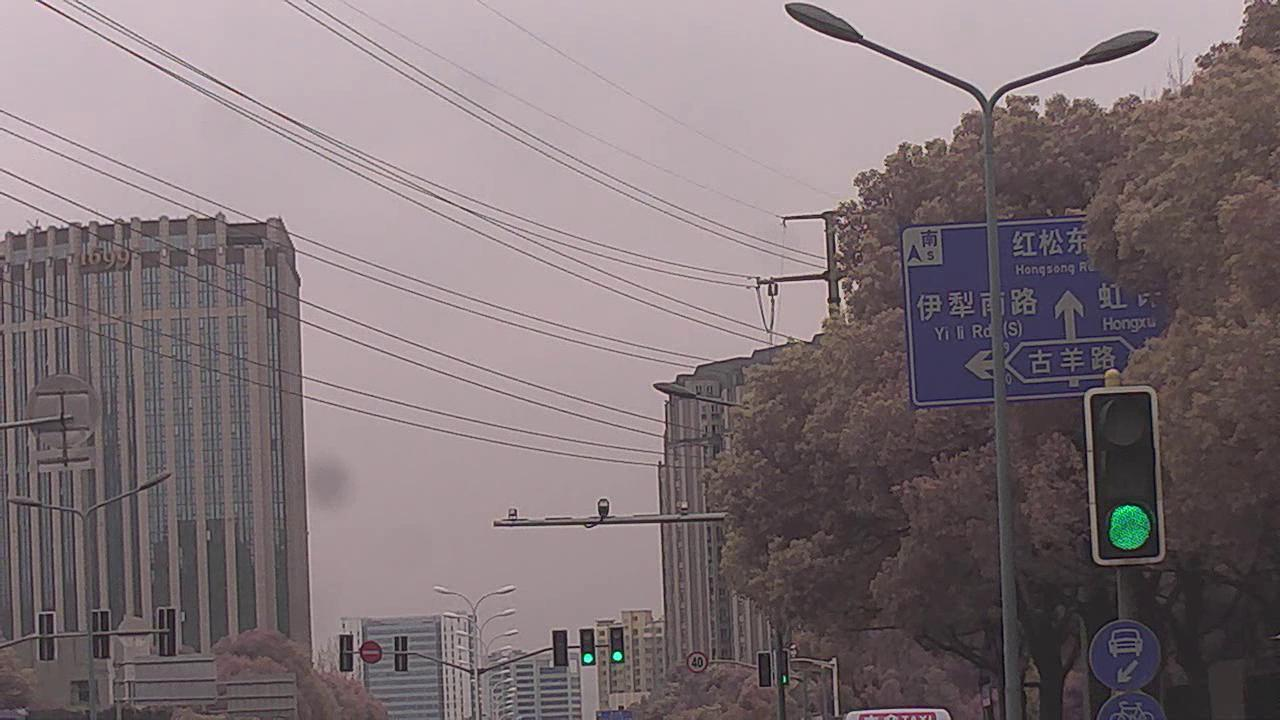traffic_light: (1084, 384, 1165, 567), (578, 627, 597, 667), (774, 648, 792, 687), (552, 630, 569, 669), (610, 625, 626, 666), (757, 649, 772, 689)
